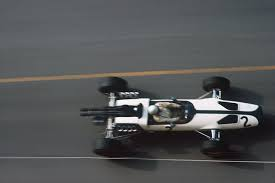f1_car: (76, 72, 275, 160)
